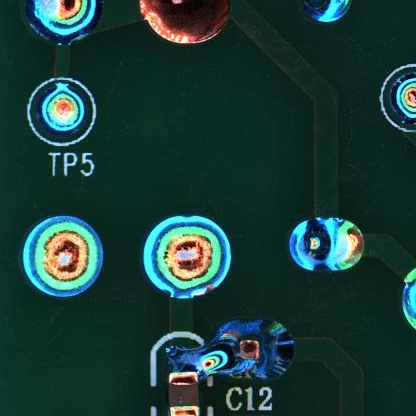spot: (144, 215, 229, 296), (21, 217, 106, 296), (206, 318, 296, 382), (290, 215, 365, 272), (33, 83, 89, 134)
